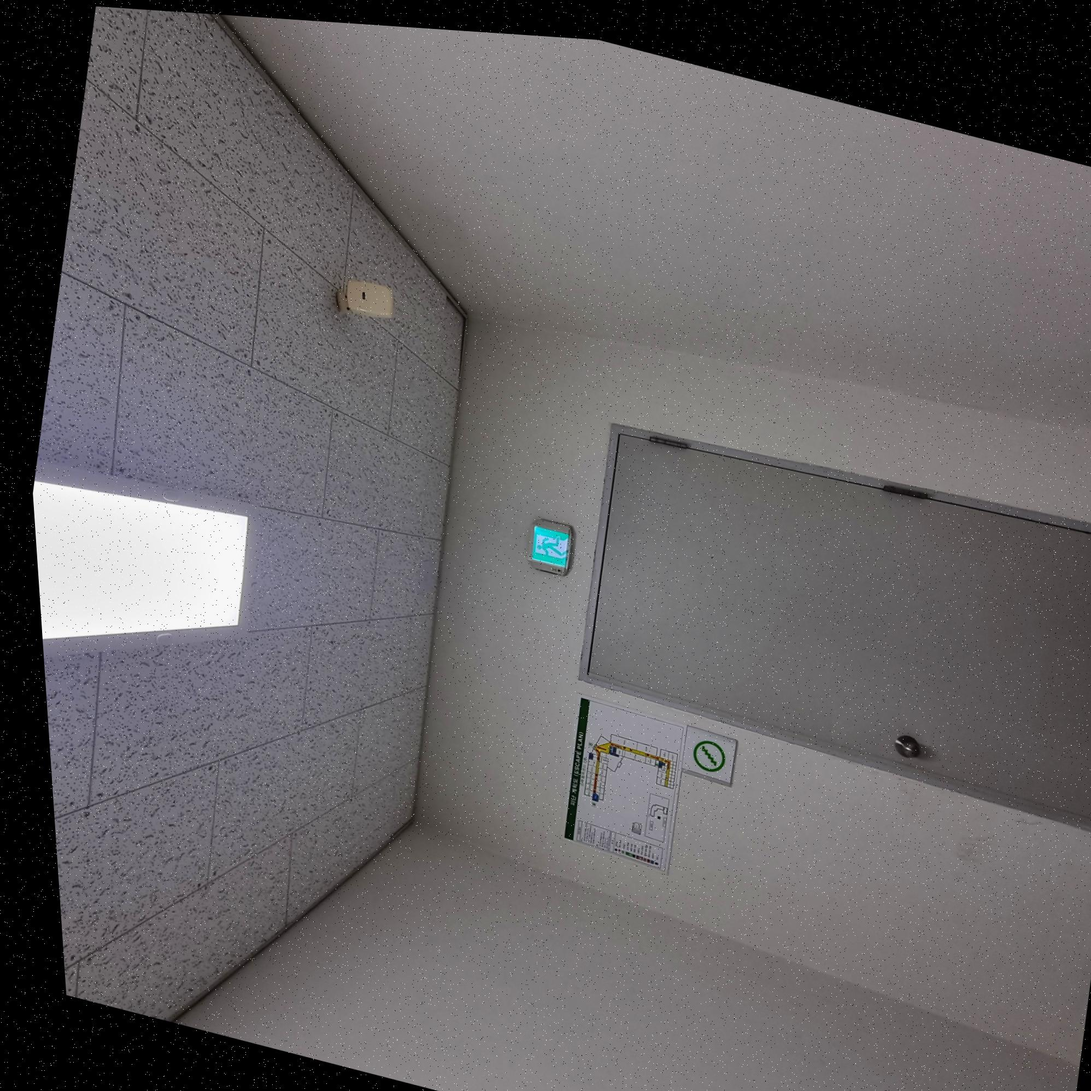emergency_exit: (563, 695, 688, 874), (682, 725, 738, 786), (528, 520, 574, 576)
